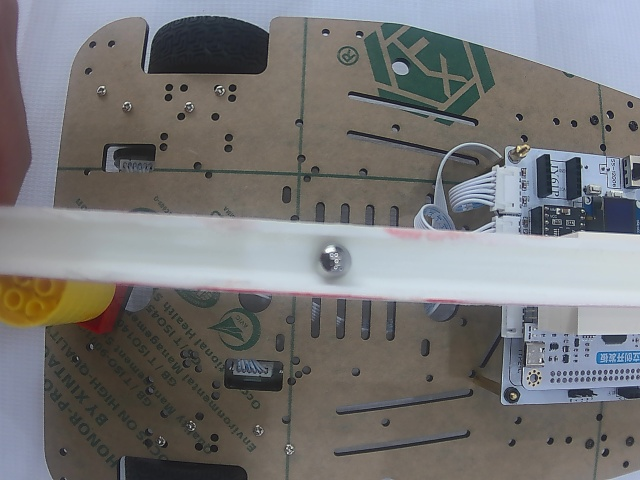steelball: (314, 242, 352, 281)
